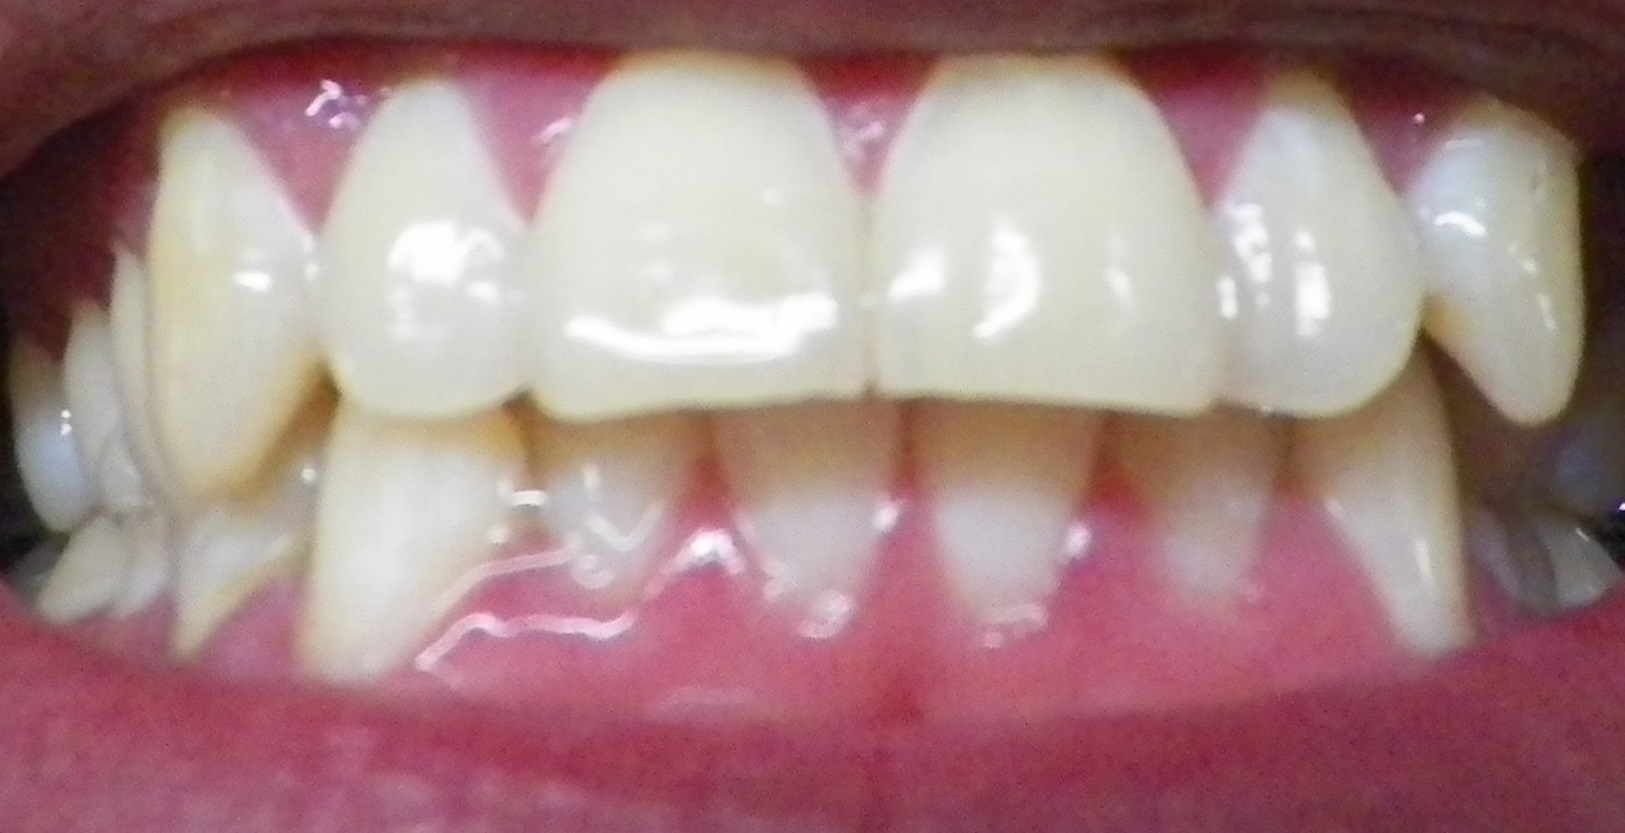boca: (37, 66, 1624, 666)
